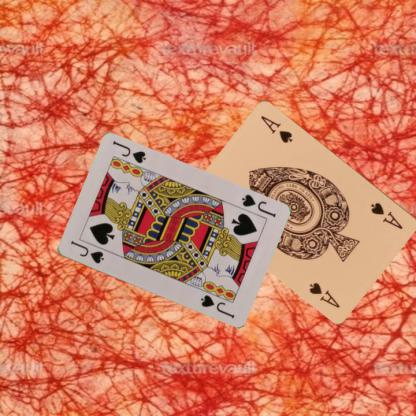As: (368, 200, 404, 231)
Js: (238, 191, 277, 220), (68, 238, 105, 265)
